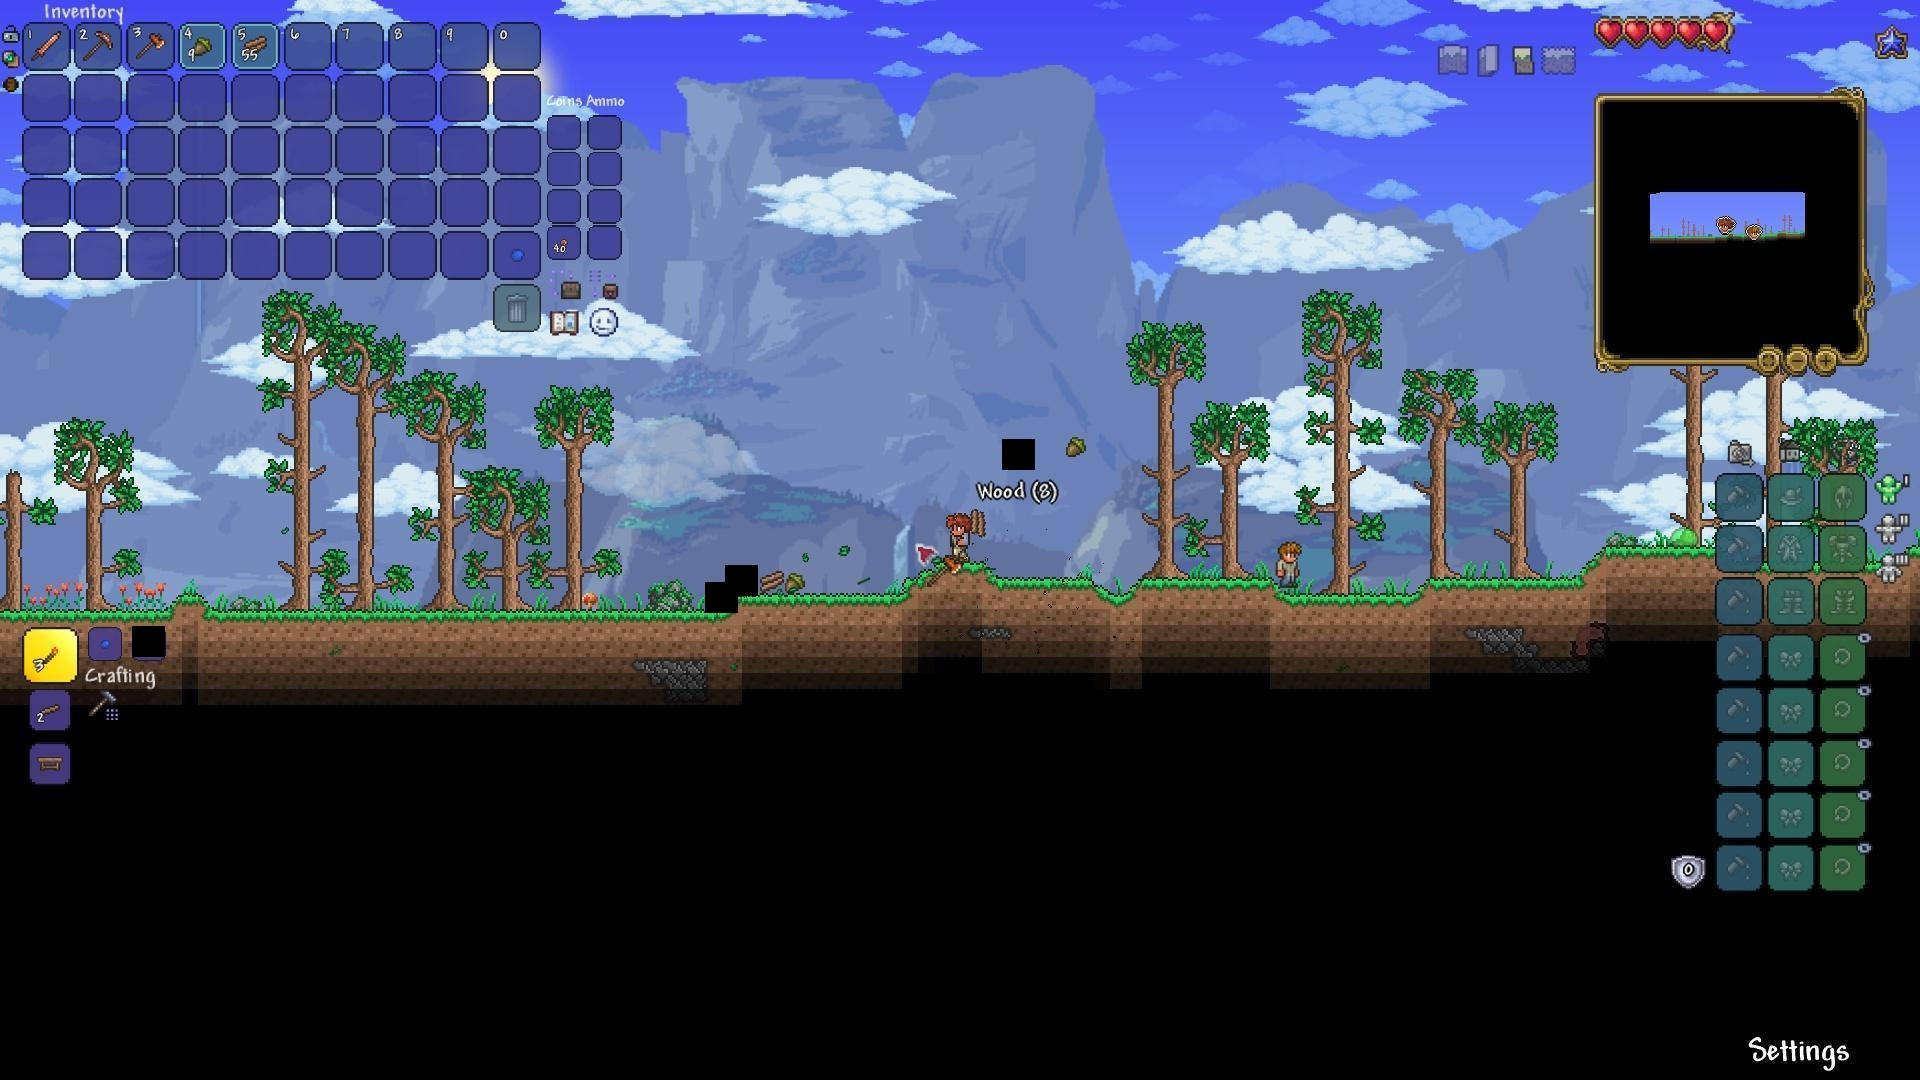slime: (1672, 525, 1697, 553)
wood: (235, 32, 269, 63), (757, 564, 790, 595)
workbench: (32, 748, 69, 773)
